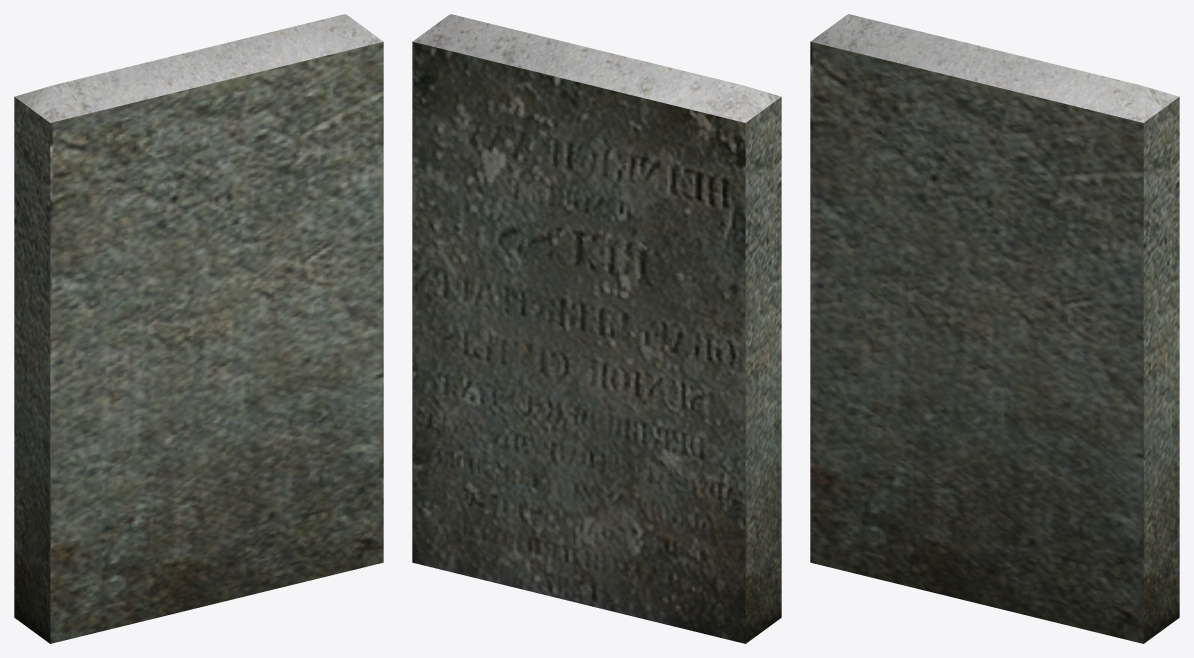
Rendered from tombstone_sm_01_snow.fbx.
3 views of the same model, side by side, from view 1: azimuth 30°, elevation 25°; view 2: azimuth 150°, elevation 25°; view 3: azimuth 330°, elevation 25° (orthographic).
Visible parts, largest first — view 1: mesh_0, mesh_1; view 2: mesh_0, mesh_1; view 3: mesh_0, mesh_1.
Part boxes in pixels (bbox=[...]): mesh_0: bbox=[14, 41, 383, 643]; mesh_1: bbox=[15, 14, 382, 122]; mesh_0: bbox=[412, 41, 781, 643]; mesh_1: bbox=[413, 14, 780, 122]; mesh_0: bbox=[810, 41, 1179, 643]; mesh_1: bbox=[811, 14, 1178, 122].
Size of the model in its own units: 53.57 by 83 by 10.
Materials: 2 (2 with a texture image).
